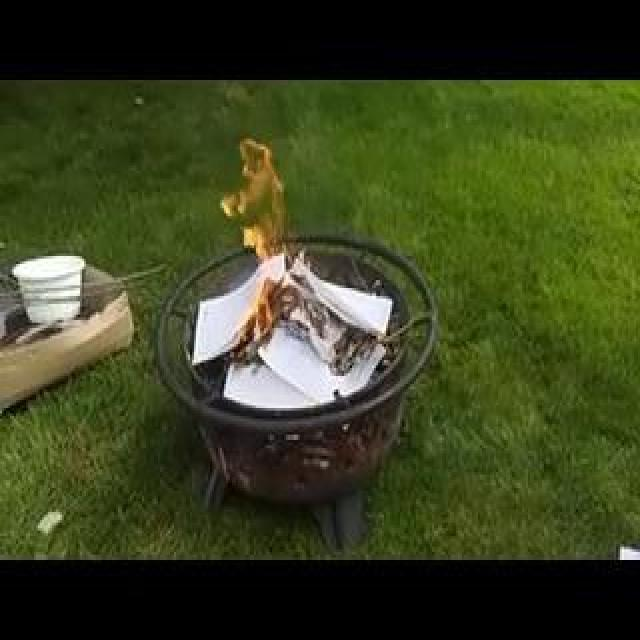Fire: (94, 202, 268, 270)
